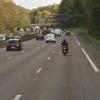Car: (5, 27, 24, 55)
